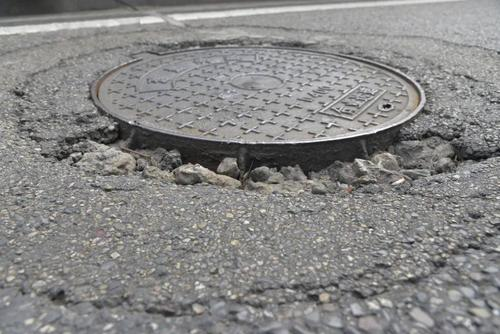circle: (17, 31, 482, 206)
